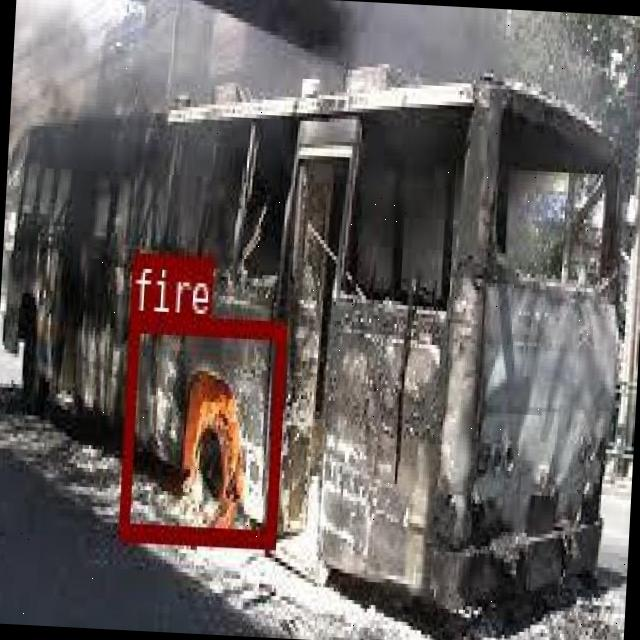fire: (118, 313, 284, 544)
